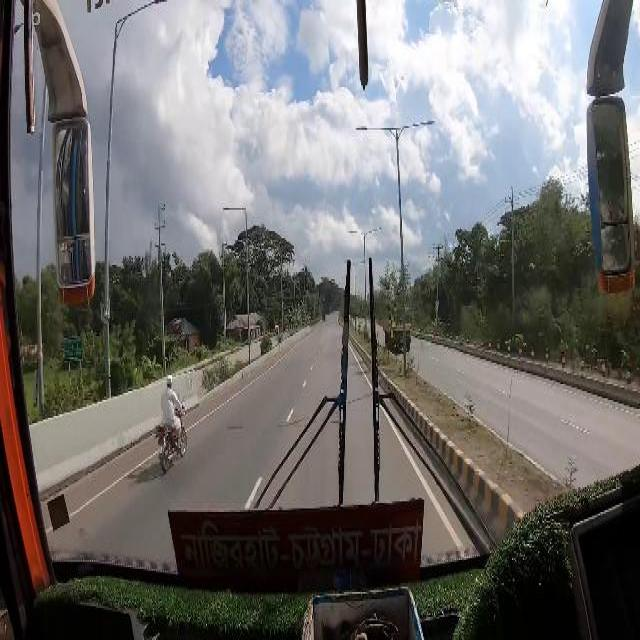bike: (156, 408, 188, 472)
vehicle: (383, 305, 412, 351)
